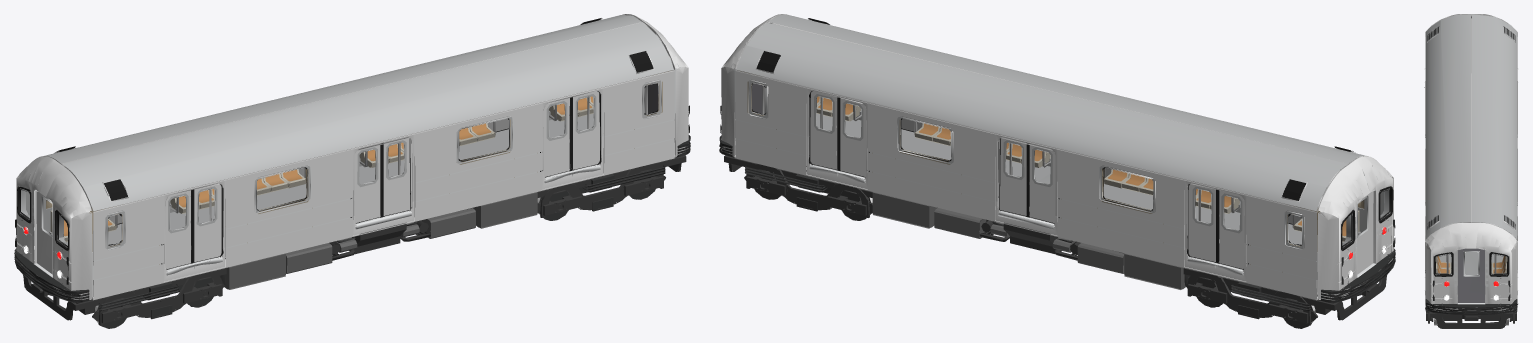
Rendered from train.glb.
3 views of the same model, side by side, from view 1: azimuth 30°, elevation 25°; view 2: azimuth 150°, elevation 25°; view 3: azimuth 270°, elevation 25° (orthographic). The views are drawn at different scales.
Parts seen in each view (by area): view 1: SubwayCar; view 2: SubwayCar; view 3: SubwayCar.
Part boxes in pixels (x1=…): SubwayCar: x1=14, y1=14, x2=690, y2=328; SubwayCar: x1=719, y1=14, x2=1395, y2=328; SubwayCar: x1=1424, y1=14, x2=1517, y2=328.
Size of the model in its own units: 25.64 by 5.85 by 4.49.
